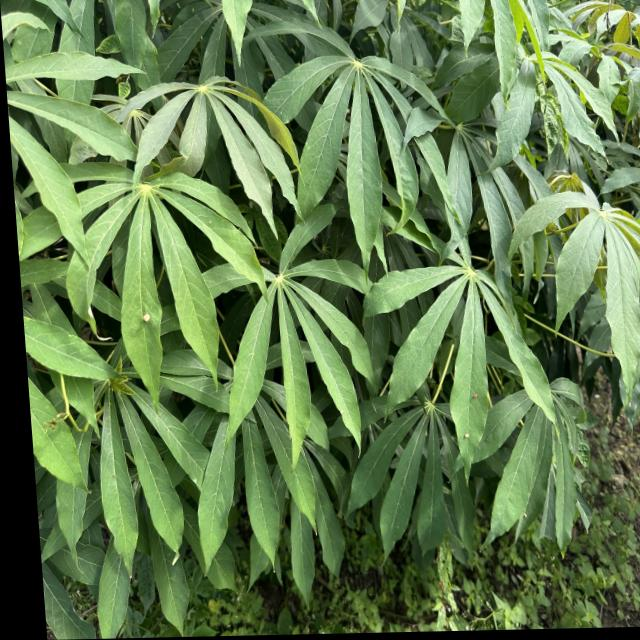Mosca: (139, 306, 155, 327), (517, 506, 533, 523), (467, 389, 481, 402), (460, 429, 471, 442)
